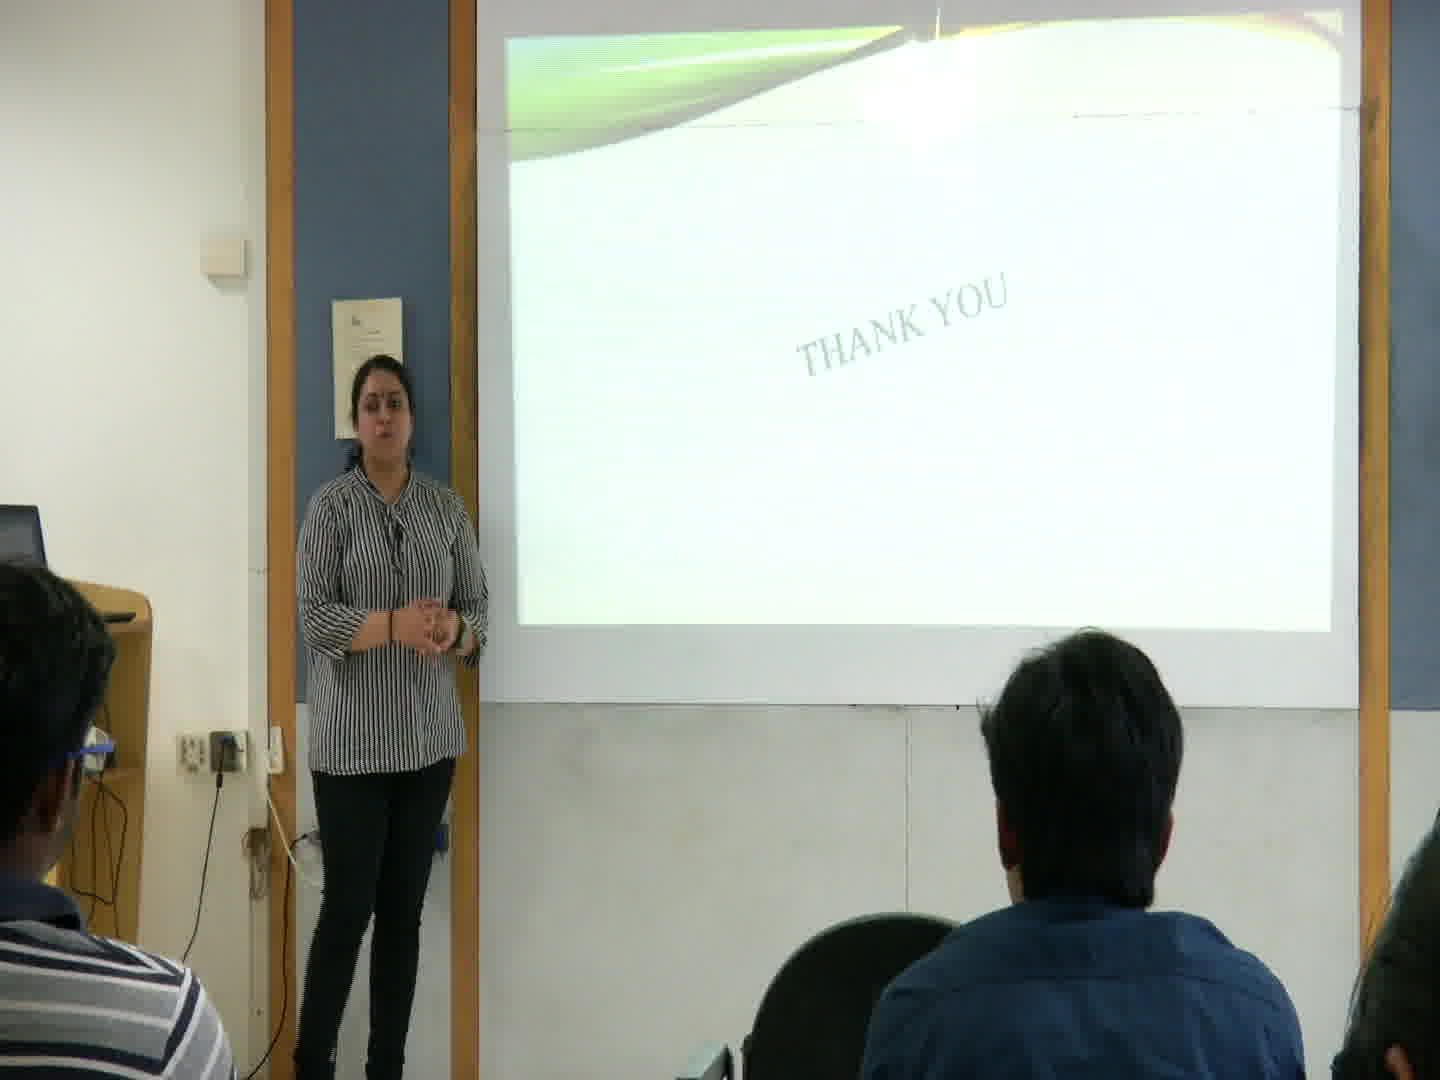slide: (508, 11, 1337, 631)
